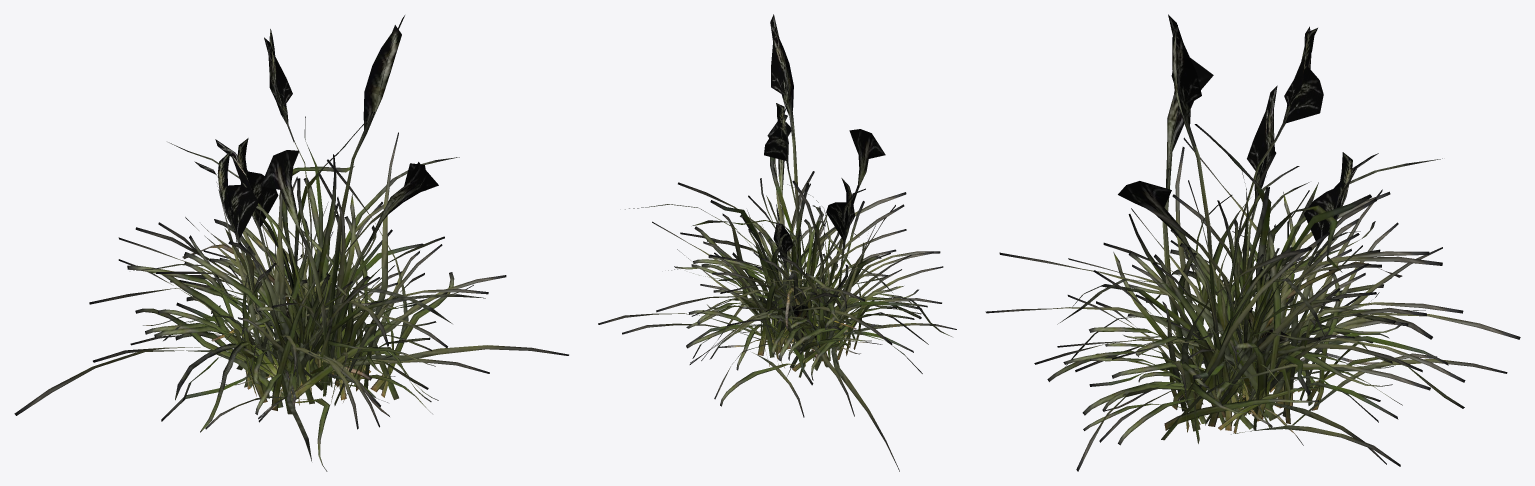
File: poly-grass.glb
3 renders of one model, left to right at view 1: azimuth 30°, elevation 25°; view 2: azimuth 150°, elevation 25°; view 3: azimuth 270°, elevation 25°, orthographic. The views are drawn at different scales.
Visible parts, largest first — view 1: grass_medium_01_mid_a_LOD0, grass_medium_01_small_a_LOD0, grass_medium_01_tiny_a_LOD0; view 2: grass_medium_01_mid_a_LOD0, grass_medium_01_small_a_LOD0, grass_medium_01_tiny_a_LOD0; view 3: grass_medium_01_mid_a_LOD0, grass_medium_01_small_a_LOD0, grass_medium_01_tiny_a_LOD0.
Part boxes in pixels (<box>): grass_medium_01_mid_a_LOD0: <box>14,15,568,471</box>; grass_medium_01_small_a_LOD0: <box>133,124,485,461</box>; grass_medium_01_tiny_a_LOD0: <box>253,116,392,345</box>; grass_medium_01_mid_a_LOD0: <box>598,14,956,471</box>; grass_medium_01_small_a_LOD0: <box>625,114,951,385</box>; grass_medium_01_tiny_a_LOD0: <box>710,200,846,328</box>; grass_medium_01_mid_a_LOD0: <box>985,14,1520,471</box>; grass_medium_01_small_a_LOD0: <box>1057,124,1448,445</box>; grass_medium_01_tiny_a_LOD0: <box>1195,194,1371,397</box>.
Bounding box in the file's own units: 0.2168 × 0.2177 × 0.2214.
1 material, 1 textured.
